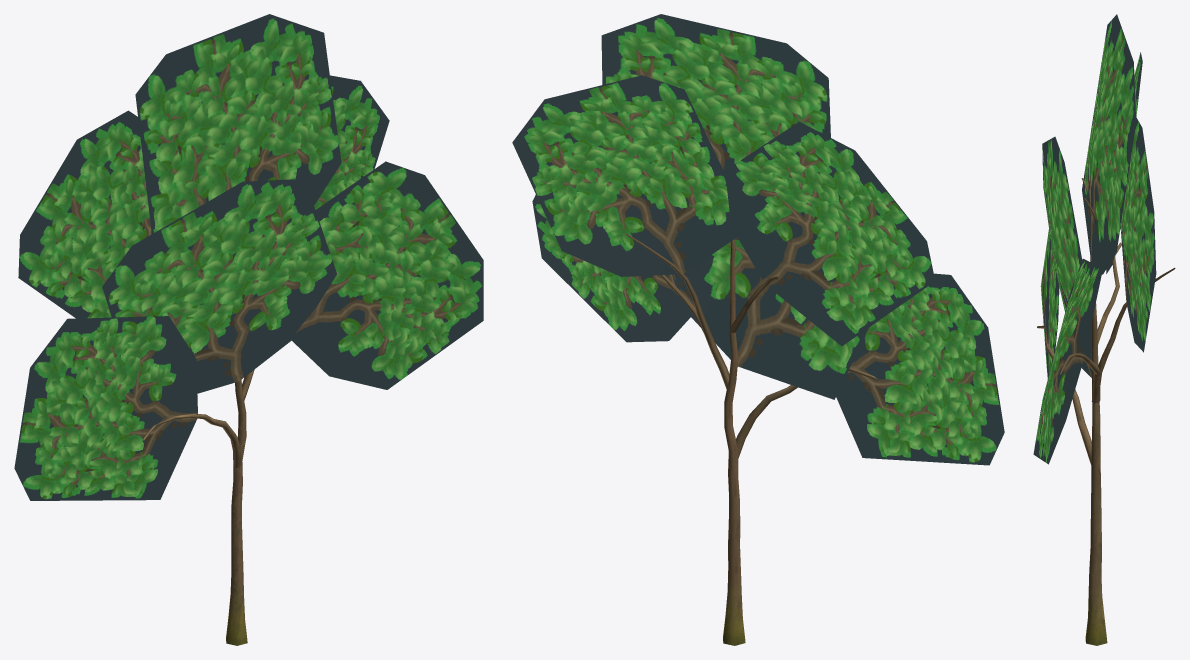
Rendered from tree_background_02.fbx.
The picture shows the model from 3 angles, left to right: view 1: azimuth 30°, elevation 25°; view 2: azimuth 150°, elevation 25°; view 3: azimuth 270°, elevation 25°; orthographic projection. The views are drawn at different scales.
Parts seen in each view (by area): view 1: tree_background_02_leaves, tree_background_02; view 2: tree_background_02_leaves, tree_background_02; view 3: tree_background_02_leaves, tree_background_02.
Boxes of the visible parts, x1=… form: tree_background_02_leaves: x1=14, y1=14, x2=483, y2=500; tree_background_02: x1=142, y1=179, x2=276, y2=645; tree_background_02_leaves: x1=512, y1=14, x2=1004, y2=465; tree_background_02: x1=625, y1=233, x2=877, y2=645; tree_background_02_leaves: x1=1033, y1=14, x2=1156, y2=464; tree_background_02: x1=1037, y1=178, x2=1175, y2=645.
Bounding box in the file's own units: 655 × 816 × 174.
